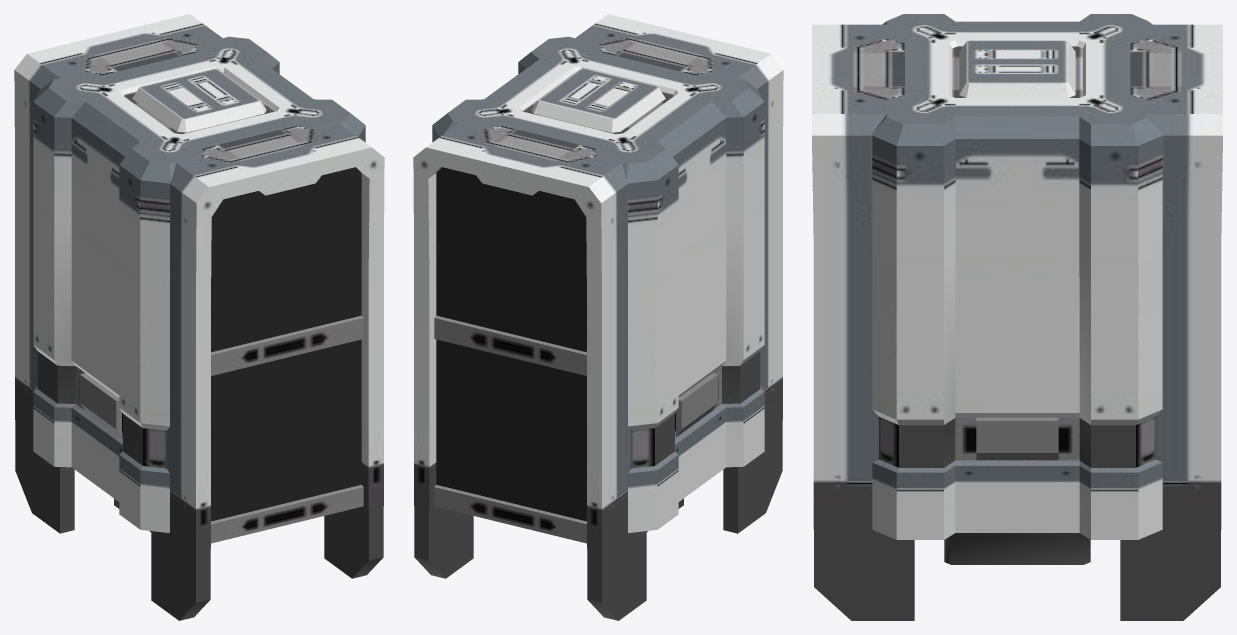
3 views of the same model, side by side, from view 1: azimuth 30°, elevation 25°; view 2: azimuth 150°, elevation 25°; view 3: azimuth 270°, elevation 25° (orthographic). The views are drawn at different scales.
Parts seen in each view (by area): view 1: splitter-b; view 2: splitter-b; view 3: splitter-b.
Part boxes in pixels (x1,y1,x2,y2): splitter-b: (14,14,384,620); splitter-b: (413,14,783,620); splitter-b: (812,14,1222,620).
Size of the model in its own units: 1.8 by 3.44 by 2.52.
2 materials, 1 textured.
